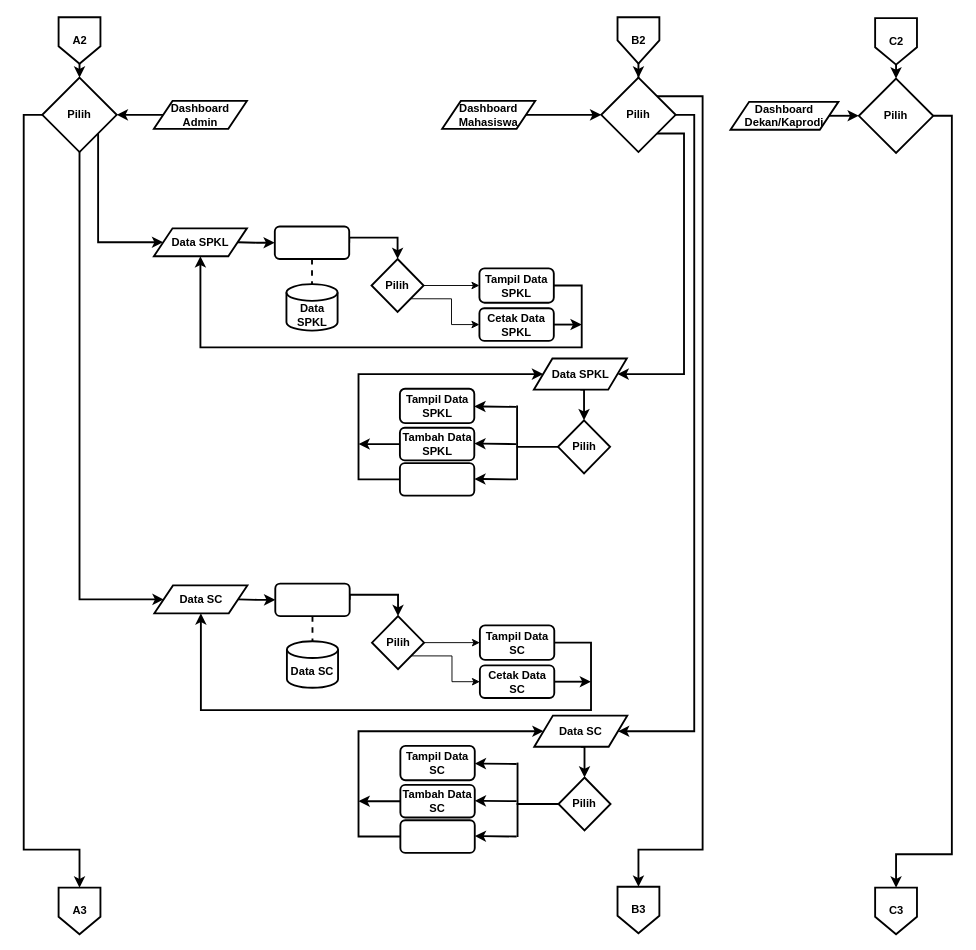
This 976x950 diagram has some shape labels left out. The centre of each missing label's shape, as x and y in pixels:
"Kelola Data SC" belongs at pixel 312 599.
"Kelola Data SPKL" belongs at pixel 311 242.
"Ubah Data SC" belongs at pixel 437 836.
"Ubah Data SPKL" belongs at pixel 437 479.
